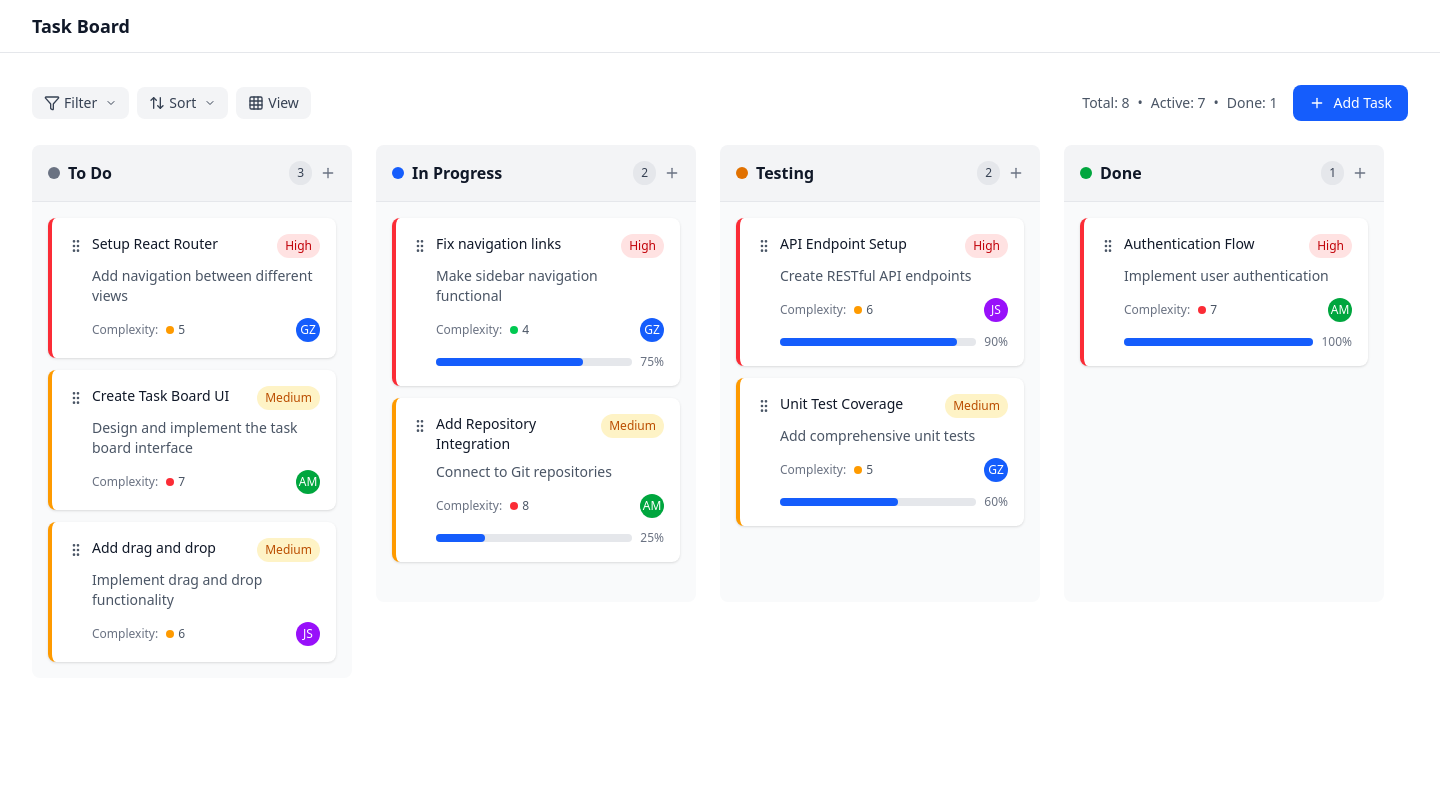
Scenario: Task Creation Flow Integration Tests › should allow canceling task creation
// Click add task button
Click the button "Add Task": (1351, 103) [1294,85,1408,121]
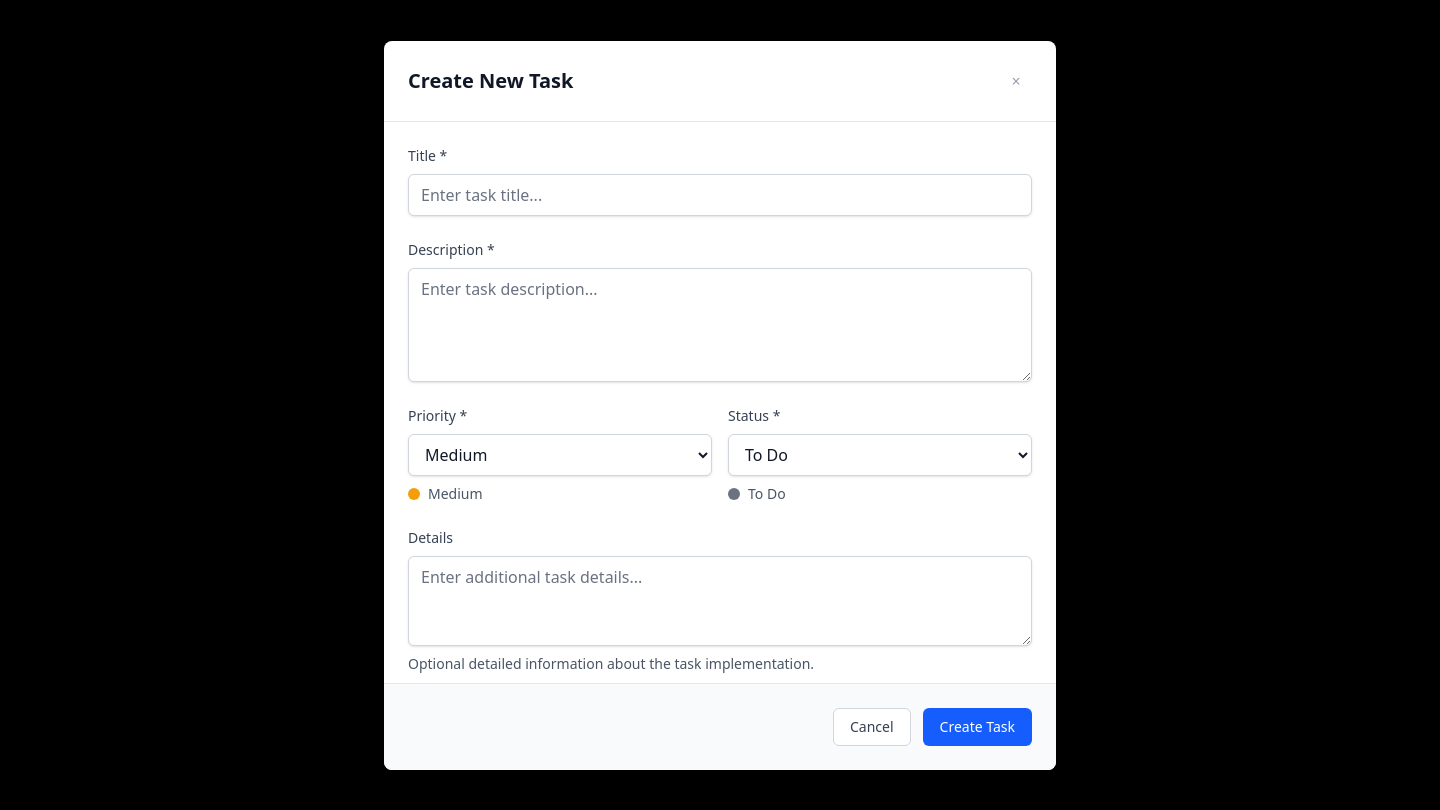
Expected: the field labelled "Title *" is shown
// Fill in some data
In the field labelled "Title *": (720, 194) [408,174,1032,216], type "Test Task"
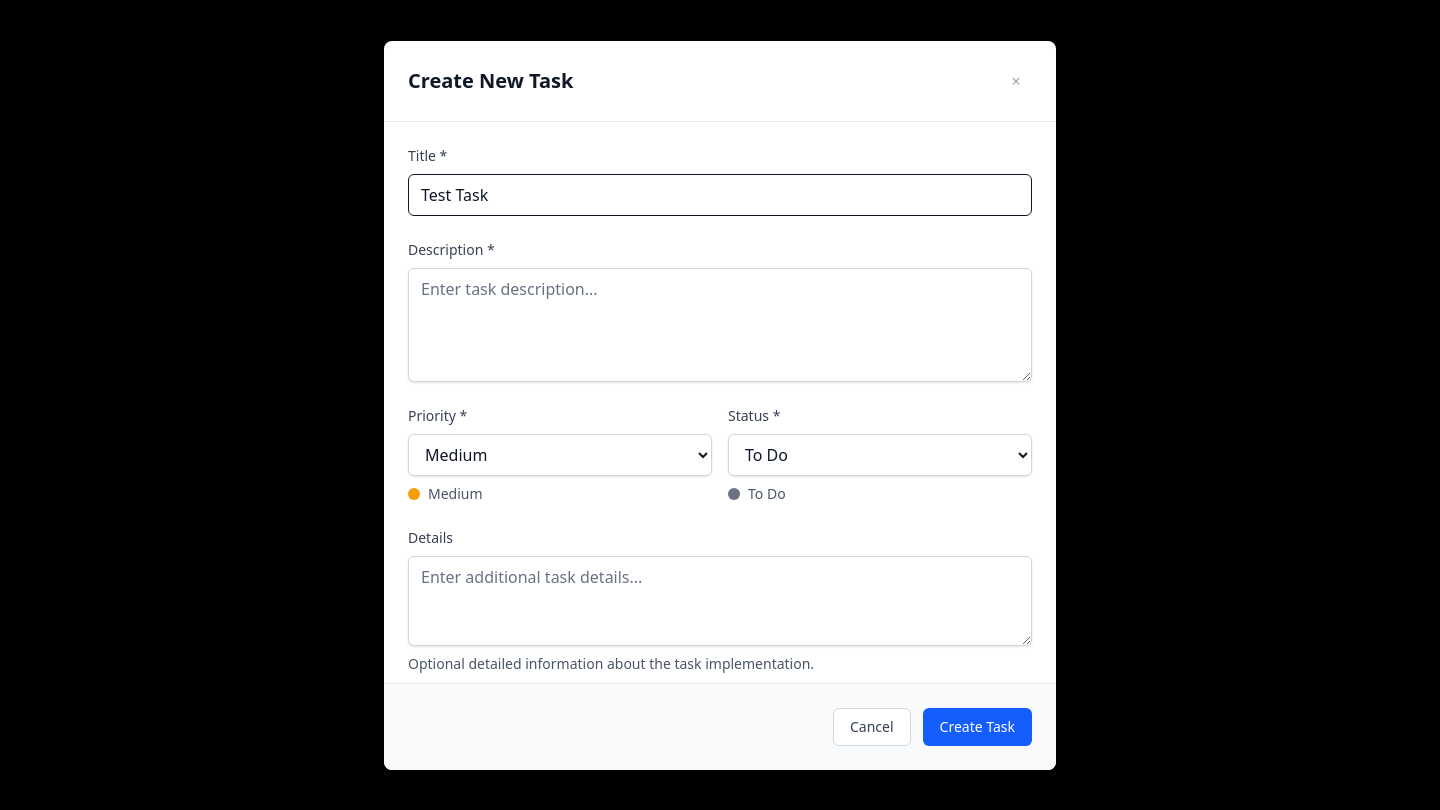
// Click cancel
Click the button "Cancel": (872, 726) [833,708,911,746]
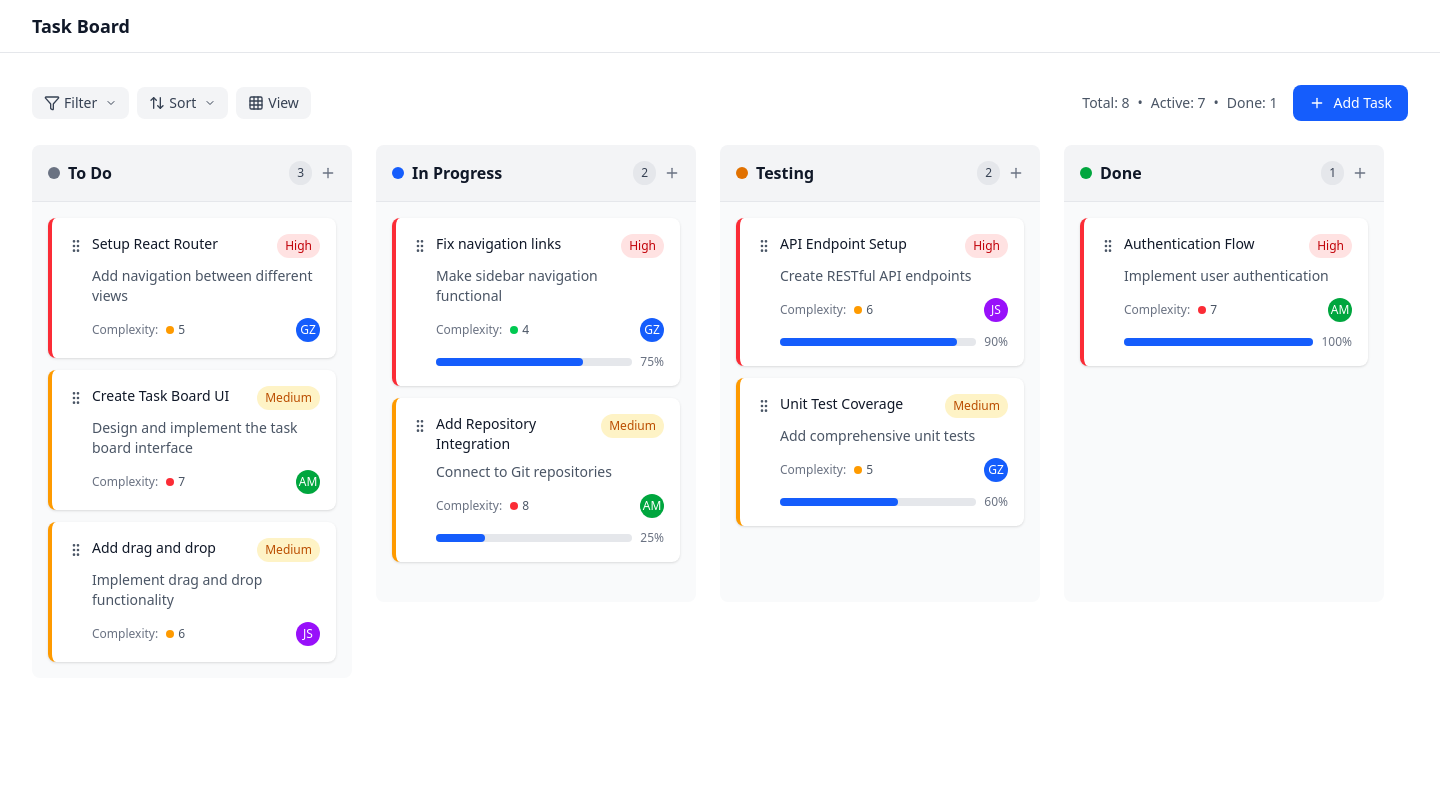
Expected: the label labelled "Title" is gone
